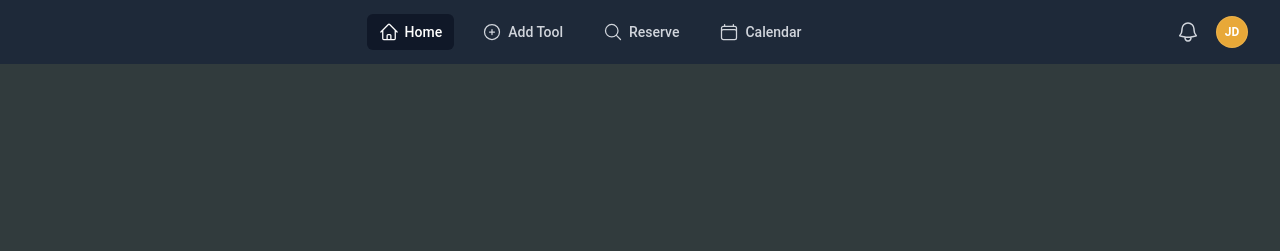
it: Navbar › opens the profile menu with the user header and actions
What coordinates should you click on to do the following:
click the button named "open user menu"
I would click on:
 (1232, 32)
Its box is [1216, 16, 1248, 48].
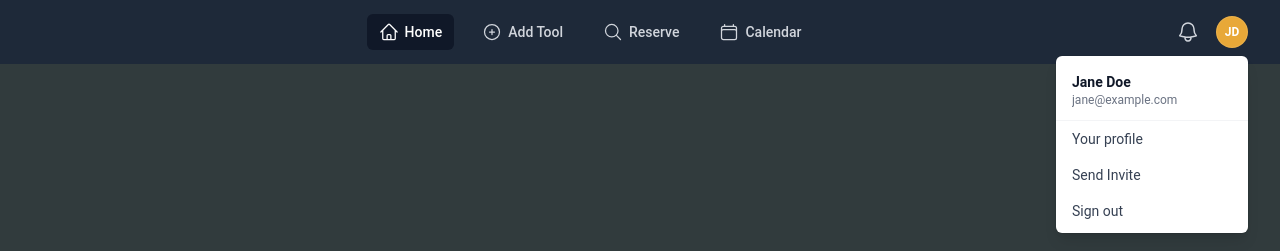
Check: the text "Jane Doe" is shown, box [1072, 74, 1131, 90]
Check: the text "jane@example.com" is shown, box [1072, 93, 1177, 107]
Check: the menu item "Your profile" is shown, box [1056, 121, 1248, 157]
